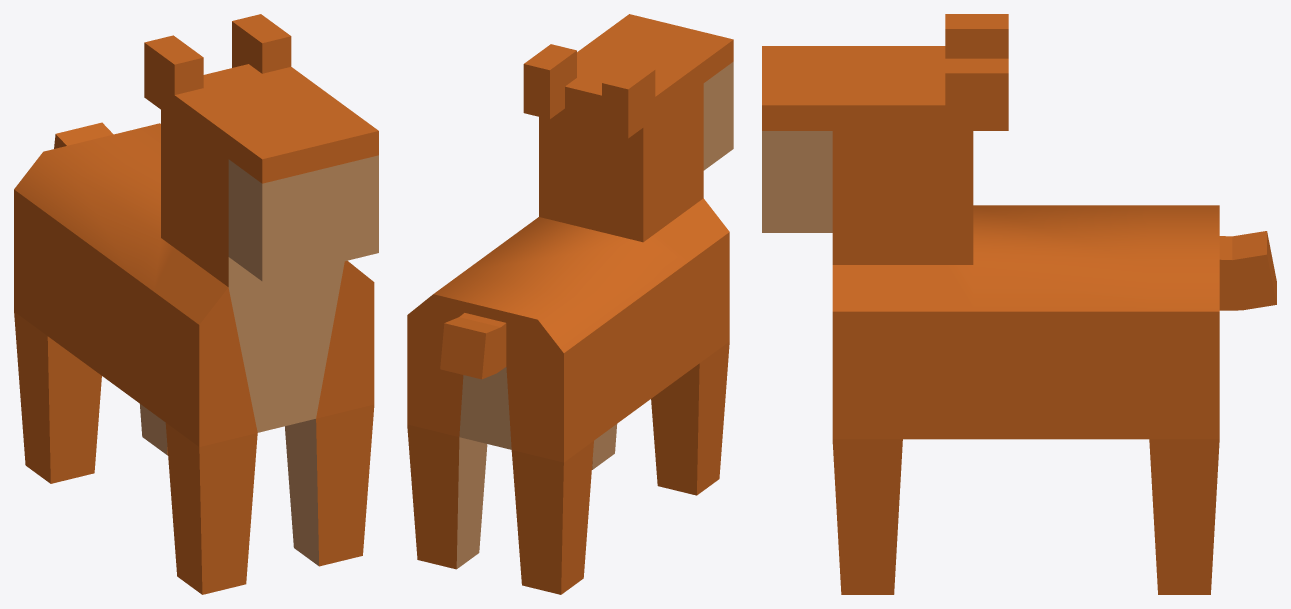
Rendered from Doe.FBX.
3 renders of one model, left to right at view 1: azimuth 30°, elevation 25°; view 2: azimuth 150°, elevation 25°; view 3: azimuth 270°, elevation 25°, orthographic. The views are drawn at different scales.
Parts seen in each view (by area): view 1: Doe; view 2: Doe; view 3: Doe.
Part boxes in pixels (box(x1,y1,x2,y2)): Doe: box(14, 14, 378, 594); Doe: box(407, 14, 733, 594); Doe: box(762, 14, 1276, 594).
Bounding box in the file's own units: 30 × 80 × 73.12.
